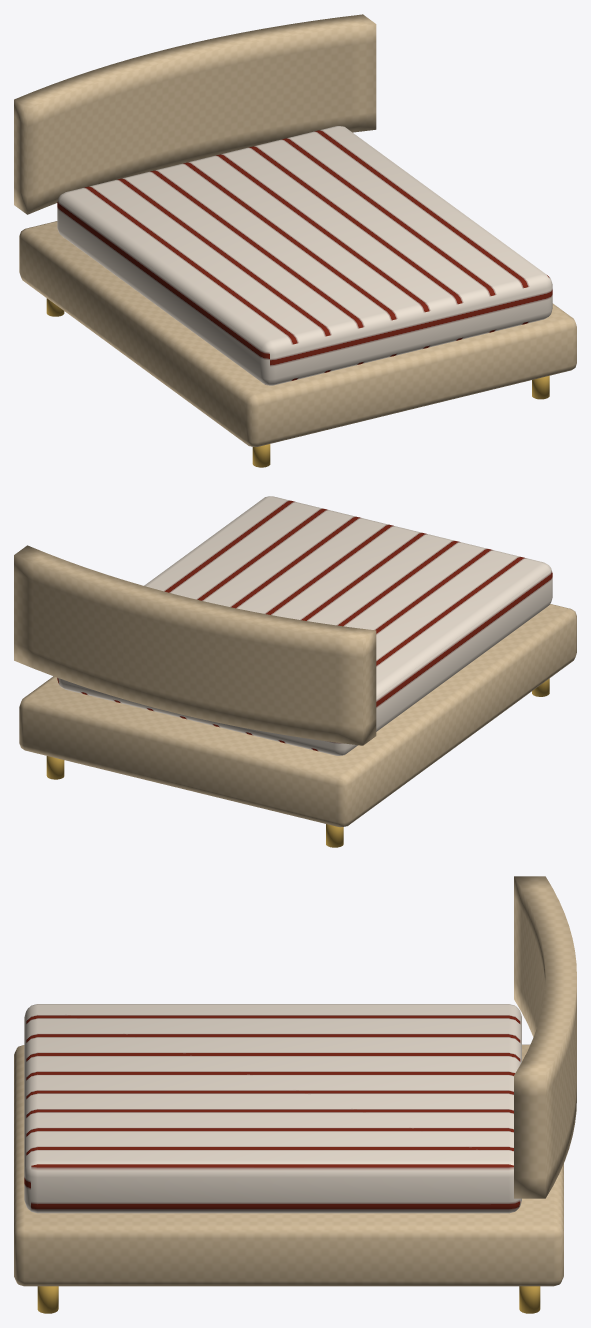
The model's file is modern_bed_02.glb.
3 renders of one model, top to bottom at view 1: azimuth 30°, elevation 25°; view 2: azimuth 150°, elevation 25°; view 3: azimuth 270°, elevation 25°, orthographic. The views are drawn at different scales.
Visible parts, largest first — view 1: modern_bed_02; view 2: modern_bed_02; view 3: modern_bed_02.
Boxes of the visible parts, x1,y1,x2,y2 form: modern_bed_02: [14, 14, 576, 467]; modern_bed_02: [14, 496, 576, 847]; modern_bed_02: [14, 876, 576, 1313].
Bounding box in the file's own units: 1.8 × 1.07 × 2.15.
3 materials, 2 textured.
